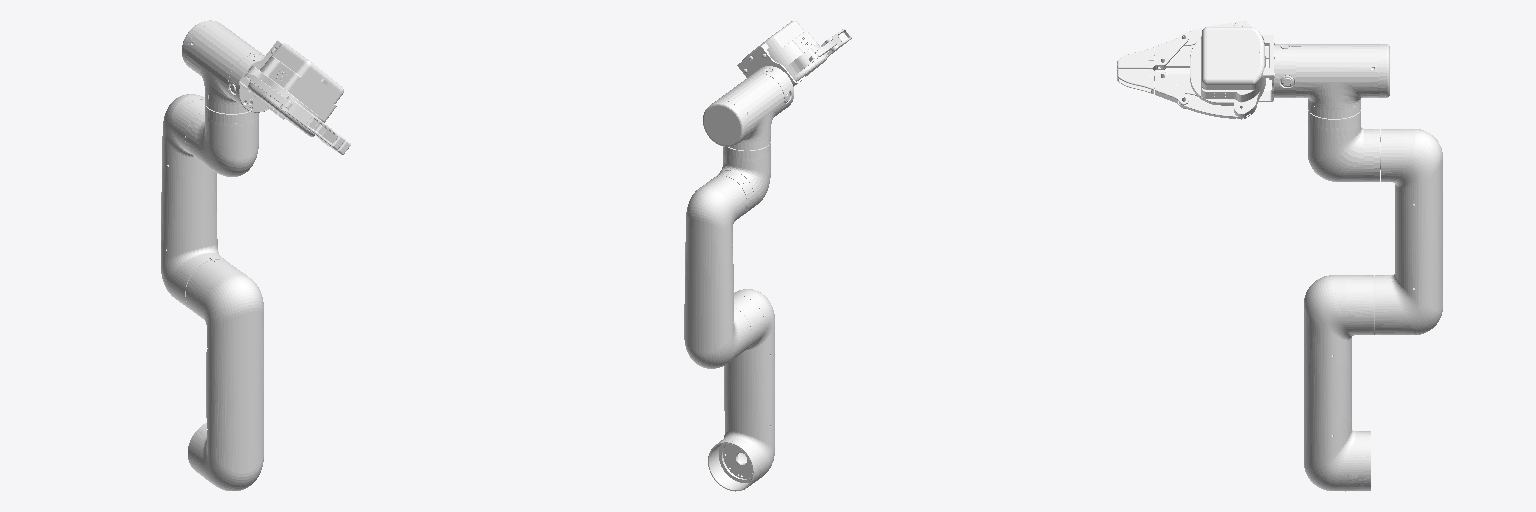
The robot description file, URDF, robot "Pro450 V2.0 Force Gripper":
<?xml version="1.0" encoding="utf-8"?>
<!-- This URDF was automatically created by SolidWorks to URDF Exporter! Originally created by Stephen Brawner (brawner@gmail.com) 
     Commit Version: 1.6.0-4-g7f85cfe  Build Version: 1.6.7995.38578
     For more information, please see http://wiki.ros.org/sw_urdf_exporter -->
<robot
  name="Pro450 V2.0 Force Gripper">
  <link
    name="base_link">
    <inertial>
      <origin
        xyz="-0.0121427980398158 -0.000139114941121948 0.0639906746725437"
        rpy="0 0 0" />
      <mass
        value="1.99849235094068" />
      <inertia
        ixx="0.00307588233725824"
        ixy="1.71384809402287E-06"
        ixz="0.000231023965259326"
        iyy="0.00282788073996958"
        iyz="-3.64610818465636E-07"
        izz="0.00322226268233202" />
    </inertial>
    <visual>
      <origin
        xyz="0 0 0"
        rpy="0 0 0" />
      <geometry>
        <mesh
          filename="package://mycobot_description/urdf/mycobot_pro_450/new_structure/meshes_gripper/base_link.STL" />
      </geometry>
      <material
        name="">
        <color
          rgba="1 1 1 1" />
      </material>
    </visual>
    <collision>
      <origin
        xyz="0 0 0"
        rpy="0 0 0" />
      <geometry>
        <mesh
          filename="package://mycobot_description/urdf/mycobot_pro_450/new_structure/meshes_gripper/base_link.STL" />
      </geometry>
    </collision>
  </link>
  <link
    name="link1">
    <inertial>
      <origin
        xyz="0.00041549358711547 -0.0218911357582349 -0.00347990976722076"
        rpy="0 0 0" />
      <mass
        value="0.53390251462261" />
      <inertia
        ixx="0.000329515563562123"
        ixy="-2.22975000584298E-07"
        ixz="7.49234969297025E-07"
        iyy="0.000342890656657347"
        iyz="1.474745752863E-05"
        izz="0.000318289898375189" />
    </inertial>
    <visual>
      <origin
        xyz="0 0 0"
        rpy="0 0 0" />
      <geometry>
        <mesh
          filename="package://mycobot_description/urdf/mycobot_pro_450/new_structure/meshes_gripper/link1.STL" />
      </geometry>
      <material
        name="">
        <color
          rgba="1 1 1 1" />
      </material>
    </visual>
    <collision>
      <origin
        xyz="0 0 0"
        rpy="0 0 0" />
      <geometry>
        <mesh
          filename="package://mycobot_description/urdf/mycobot_pro_450/new_structure/meshes_gripper/link1.STL" />
      </geometry>
    </collision>
  </link>
  <joint
    name="joint1"
    type="revolute">
    <origin
      xyz="0 0 0.210000000061212"
      rpy="0 0 0" />
    <parent
      link="base_link" />
    <child
      link="link1" />
    <axis
      xyz="0 0 1" />
    <limit
      lower="-2.8274"
      upper="2.8274"
      effort="10"
      velocity="3.7909" />
  </joint>
  <link
    name="Link2">
    <inertial>
      <origin
        xyz="-0.119196937867357 4.53708108136275E-05 0.077398171674505"
        rpy="0 0 0" />
      <mass
        value="0.599817831409922" />
      <inertia
        ixx="0.000292361093939765"
        ixy="-6.01962554926766E-07"
        ixz="-6.36308387887681E-05"
        iyy="0.00212671894321412"
        iyz="-2.73387760027324E-08"
        izz="0.00220058501248914" />
    </inertial>
    <visual>
      <origin
        xyz="0 0 0"
        rpy="0 0 0" />
      <geometry>
        <mesh
          filename="package://mycobot_description/urdf/mycobot_pro_450/new_structure/meshes_gripper/Link2.STL" />
      </geometry>
      <material
        name="">
        <color
          rgba="1 1 1 1" />
      </material>
    </visual>
    <collision>
      <origin
        xyz="0 0 0"
        rpy="0 0 0" />
      <geometry>
        <mesh
          filename="package://mycobot_description/urdf/mycobot_pro_450/new_structure/meshes_gripper/Link2.STL" />
      </geometry>
    </collision>
  </link>
  <joint
    name="joint2"
    type="revolute">
    <origin
      xyz="0 0 0"
      rpy="1.57079632679529 1.5707963267949 0" />
    <parent
      link="link1" />
    <child
      link="Link2" />
    <axis
      xyz="0 0 1" />
    <limit
      lower="-2.1817"
      upper="2.1817"
      effort="10"
      velocity="3.7909" />
  </joint>
  <link
    name="Link3">
    <inertial>
      <origin
        xyz="-0.126394054140004 -8.78085892881963E-05 0.0149922427268116"
        rpy="0 0 0" />
      <mass
        value="0.677760403744797" />
      <inertia
        ixx="0.000253551769521492"
        ixy="-1.6207463142078E-07"
        ixz="-2.73853967252523E-05"
        iyy="0.00171112893139742"
        iyz="-1.48031061511053E-07"
        izz="0.00175559532168159" />
    </inertial>
    <visual>
      <origin
        xyz="0 0 0"
        rpy="0 0 0" />
      <geometry>
        <mesh
          filename="package://mycobot_description/urdf/mycobot_pro_450/new_structure/meshes_gripper/Link3.STL" />
      </geometry>
      <material
        name="">
        <color
          rgba="1 1 1 1" />
      </material>
    </visual>
    <collision>
      <origin
        xyz="0 0 0"
        rpy="0 0 0" />
      <geometry>
        <mesh
          filename="package://mycobot_description/urdf/mycobot_pro_450/new_structure/meshes_gripper/Link3.STL" />
      </geometry>
    </collision>
  </link>
  <joint
    name="joint3"
    type="revolute">
    <origin
      xyz="-0.18 0 0"
      rpy="0 0 0" />
    <parent
      link="Link2" />
    <child
      link="Link3" />
    <axis
      xyz="0 0 1" />
    <limit
      lower="-2.6878"
      upper="2.6878"
      effort="8"
      velocity="3.11" />
  </joint>
  <link
    name="Link4">
    <inertial>
      <origin
        xyz="-0.0243356327246771 1.85891157540585E-06 -0.00501248583263512"
        rpy="0 0 0" />
      <mass
        value="0.554330588713247" />
      <inertia
        ixx="0.000190999544349174"
        ixy="-3.48704859231241E-07"
        ixz="1.58846886540113E-05"
        iyy="0.00024787463445041"
        iyz="5.86517184457514E-07"
        izz="0.00024422730305577" />
    </inertial>
    <visual>
      <origin
        xyz="0 0 0"
        rpy="0 0 0" />
      <geometry>
        <mesh
          filename="package://mycobot_description/urdf/mycobot_pro_450/new_structure/meshes_gripper/Link4.STL" />
      </geometry>
      <material
        name="">
        <color
          rgba="1 1 1 1" />
      </material>
    </visual>
    <collision>
      <origin
        xyz="0 0 0"
        rpy="0 0 0" />
      <geometry>
        <mesh
          filename="package://mycobot_description/urdf/mycobot_pro_450/new_structure/meshes_gripper/Link4.STL" />
      </geometry>
    </collision>
  </link>
  <joint
    name="joint4"
    type="revolute">
    <origin
      xyz="-0.173 0 0.085491"
      rpy="0 0 0" />
    <parent
      link="Link3" />
    <child
      link="Link4" />
    <axis
      xyz="0 0 1" />
    <limit
      lower="-2.8274"
      upper="2.8274"
      effort="2"
      velocity="3.11" />
  </joint>
  <link
    name="Link5">
    <inertial>
      <origin
        xyz="5.95525924024787E-05 -0.00755726858537741 -0.00355598775670984"
        rpy="0 0 0" />
      <mass
        value="0.549892772726069" />
      <inertia
        ixx="0.000227255118306309"
        ixy="2.78668412227377E-07"
        ixz="-1.6485530675208E-07"
        iyy="0.000191630652243264"
        iyz="2.40596542594008E-06"
        izz="0.000230343122724731" />
    </inertial>
    <visual>
      <origin
        xyz="0 0 0"
        rpy="0 0 0" />
      <geometry>
        <mesh
          filename="package://mycobot_description/urdf/mycobot_pro_450/new_structure/meshes_gripper/Link5.STL" />
      </geometry>
      <material
        name="">
        <color
          rgba="1 1 1 1" />
      </material>
    </visual>
    <collision>
      <origin
        xyz="0 0 0"
        rpy="0 0 0" />
      <geometry>
        <mesh
          filename="package://mycobot_description/urdf/mycobot_pro_450/new_structure/meshes_gripper/Link5.STL" />
      </geometry>
    </collision>
  </link>
  <joint
    name="joint5"
    type="revolute">
    <origin
      xyz="-0.097501 0 0"
      rpy="1.5708 0 -1.5708" />
    <parent
      link="Link4" />
    <child
      link="Link5" />
    <axis
      xyz="0 0 1" />
    <limit
      lower="-2.8274"
      upper="2.8274"
      effort="2"
      velocity="03.11" />
  </joint>
  <link
    name="Link6">
    <inertial>
      <origin
        xyz="0.000253028286251067 -1.94224821007533E-05 0.0129748624872951"
        rpy="0 0 0" />
      <mass
        value="0.109050457753012" />
      <inertia
        ixx="2.78189999416068E-05"
        ixy="3.40675028714369E-09"
        ixz="-1.05637116609514E-07"
        iyy="2.71885879202607E-05"
        iyz="4.96584746478856E-09"
        izz="4.45746192465352E-05" />
    </inertial>
    <visual>
      <origin
        xyz="0 0 0"
        rpy="0 0 0" />
      <geometry>
        <mesh
          filename="package://mycobot_description/urdf/mycobot_pro_450/new_structure/meshes_gripper/Link6.STL" />
      </geometry>
      <material
        name="">
        <color
          rgba="1 1 1 1" />
      </material>
    </visual>
    <collision>
      <origin
        xyz="0 0 0"
        rpy="0 0 0" />
      <geometry>
        <mesh
          filename="package://mycobot_description/urdf/mycobot_pro_450/new_structure/meshes_gripper/Link6.STL" />
      </geometry>
    </collision>
  </link>
  <joint
    name="joint6"
    type="revolute">
    <origin
      xyz="0 0.063173 0.00020984"
      rpy="1.5708 -1.5708 0" />
    <parent
      link="Link5" />
    <child
      link="Link6" />
    <axis
      xyz="0 0 -1" />
    <limit
      lower="-2.8798"
      upper="2.8798"
      effort="2"
      velocity="3.11" />
  </joint>
  <link
    name="FJR1-Link">
    <inertial>
      <origin
        xyz="-0.0240531185394106 -0.000942432324710252 -0.00349999403540391"
        rpy="0 0 0" />
      <mass
        value="0.0106787330900042" />
      <inertia
        ixx="9.13150196850704E-07"
        ixy="1.22687976365028E-06"
        ixz="1.23986212324685E-11"
        iyy="4.33499572437368E-06"
        iyz="-9.70313848749736E-12"
        izz="5.16136839112507E-06" />
    </inertial>
    <visual>
      <origin
        xyz="0 0 0"
        rpy="0 0 0" />
      <geometry>
        <mesh
          filename="package://mycobot_description/urdf/mycobot_pro_450/new_structure/meshes_gripper/FJR1-Link.STL" />
      </geometry>
      <material
        name="">
        <color
          rgba="1 1 1 1" />
      </material>
    </visual>
    <collision>
      <origin
        xyz="0 0 0"
        rpy="0 0 0" />
      <geometry>
        <mesh
          filename="package://mycobot_description/urdf/mycobot_pro_450/new_structure/meshes_gripper/FJR1-Link.STL" />
      </geometry>
    </collision>
  </link>
  <joint
    name="gripper_controller"
    type="revolute">
    <origin
      xyz="0.010249 -0.015409 -0.056357"
      rpy="0.7854 -1.5708 0" />
    <parent
      link="Link6" />
    <child
      link="FJR1-Link" />
    <axis
      xyz="0 0 1" />
    <limit
      lower="0"
      upper="1"
      effort="0"
      velocity="0" />
  </joint>
  <link
    name="FJR2_Link">
    <inertial>
      <origin
        xyz="-0.00871756109585614 -0.0066856926188521 0.00570006307158955"
        rpy="0 0 0" />
      <mass
        value="0.0122762763230831" />
      <inertia
        ixx="1.3428802470466E-06"
        ixy="1.50287085718338E-06"
        ixz="8.5192120946577E-12"
        iyy="4.07059702904549E-06"
        iyz="-4.08680695685277E-12"
        izz="4.81614917771409E-06" />
    </inertial>
    <visual>
      <origin
        xyz="0 0 0"
        rpy="0 0 0" />
      <geometry>
        <mesh
          filename="package://mycobot_description/urdf/mycobot_pro_450/new_structure/meshes_gripper/FJR2_Link.STL" />
      </geometry>
      <material
        name="">
        <color
          rgba="1 1 1 1" />
      </material>
    </visual>
    <collision>
      <origin
        xyz="0 0 0"
        rpy="0 0 0" />
      <geometry>
        <mesh
          filename="package://mycobot_description/urdf/mycobot_pro_450/new_structure/meshes_gripper/FJR2_Link.STL" />
      </geometry>
    </collision>
  </link>
  <joint
    name="FJR2"
    type="revolute">
    <origin
      xyz="-0.060004 0.0097343 -0.0092"
      rpy="0 0 0" />
    <parent
      link="FJR1-Link" />
    <child
      link="FJR2_Link" />
    <axis
      xyz="0 0 1" />
    <limit
      lower="-1"
      upper="0"
      effort="0"
      velocity="0" />
    <mimic
      joint="gripper_controller"
      multiplier="-1"
      offset="0" />
  </joint>
  <link
    name="SLR_Link">
    <inertial>
      <origin
        xyz="-0.0328198150746893 0.00307467906476672 4.37962444088669E-10"
        rpy="0 0 0" />
      <mass
        value="0.0054171073183385" />
      <inertia
        ixx="2.11007152235007E-07"
        ixy="4.3810735657286E-07"
        ixz="5.32288250036152E-15"
        iyy="1.86596385701505E-06"
        iyz="1.17970023508524E-14"
        izz="2.03590454852006E-06" />
    </inertial>
    <visual>
      <origin
        xyz="0 0 0"
        rpy="0 0 0" />
      <geometry>
        <mesh
          filename="package://mycobot_description/urdf/mycobot_pro_450/new_structure/meshes_gripper/SLR_Link.STL" />
      </geometry>
      <material
        name="">
        <color
          rgba="1 1 1 1" />
      </material>
    </visual>
    <collision>
      <origin
        xyz="0 0 0"
        rpy="0 0 0" />
      <geometry>
        <mesh
          filename="package://mycobot_description/urdf/mycobot_pro_450/new_structure/meshes_gripper/SLR_Link.STL" />
      </geometry>
    </collision>
  </link>
  <joint
    name="SLR"
    type="revolute">
    <origin
      xyz="0.031154 -0.031364 -0.034033"
      rpy="0.7854 -1.5708 0" />
    <parent
      link="Link6" />
    <child
      link="SLR_Link" />
    <axis
      xyz="0 0 1" />
    <limit
      lower="0"
      upper="1"
      effort="0"
      velocity="0" />
    <mimic
      joint="gripper_controller"
      multiplier="1"
      offset="0" />
  </joint>
  <link
    name="FJL1_Link">
    <inertial>
      <origin
        xyz="-0.0240537635019519 0.000925024900851057 -0.0034999969796613"
        rpy="0 0 0" />
      <mass
        value="0.0106787407305297" />
      <inertia
        ixx="9.14926734859368E-07"
        ixy="-1.2293790714532E-06"
        ixz="1.28278465401321E-11"
        iyy="4.33326210483321E-06"
        iyz="9.08991632049598E-12"
        izz="5.16141118405851E-06" />
    </inertial>
    <visual>
      <origin
        xyz="0 0 0"
        rpy="0 0 0" />
      <geometry>
        <mesh
          filename="package://mycobot_description/urdf/mycobot_pro_450/new_structure/meshes_gripper/FJL1_Link.STL" />
      </geometry>
      <material
        name="">
        <color
          rgba="1 1 1 1" />
      </material>
    </visual>
    <collision>
      <origin
        xyz="0 0 0"
        rpy="0 0 0" />
      <geometry>
        <mesh
          filename="package://mycobot_description/urdf/mycobot_pro_450/new_structure/meshes_gripper/FJL1_Link.STL" />
      </geometry>
    </collision>
  </link>
  <joint
    name="FJL1"
    type="revolute">
    <origin
      xyz="-0.015645 0.010485 -0.056371"
      rpy="0.7854 -1.5708 0" />
    <parent
      link="Link6" />
    <child
      link="FJL1_Link" />
    <axis
      xyz="0 0 1" />
    <limit
      lower="-1"
      upper="0"
      effort="0"
      velocity="0" />
    <mimic
      joint="gripper_controller"
      multiplier="-1"
      offset="0" />
  </joint>
  <link
    name="FJL2_Link">
    <inertial>
      <origin
        xyz="-0.0087215879519324 0.00668066863025774 0.00570001823076938"
        rpy="0 0 0" />
      <mass
        value="0.0122763514946347" />
      <inertia
        ixx="1.34459995554522E-06"
        ixy="-1.50442221119031E-06"
        ixz="-1.6047868501392E-11"
        iyy="4.0689247791143E-06"
        iyz="6.8243782759987E-12"
        izz="4.81619149507379E-06" />
    </inertial>
    <visual>
      <origin
        xyz="0 0 0"
        rpy="0 0 0" />
      <geometry>
        <mesh
          filename="package://mycobot_description/urdf/mycobot_pro_450/new_structure/meshes_gripper/FJL2_Link.STL" />
      </geometry>
      <material
        name="">
        <color
          rgba="1 1 1 1" />
      </material>
    </visual>
    <collision>
      <origin
        xyz="0 0 0"
        rpy="0 0 0" />
      <geometry>
        <mesh
          filename="package://mycobot_description/urdf/mycobot_pro_450/new_structure/meshes_gripper/FJL2_Link.STL" />
      </geometry>
    </collision>
  </link>
  <joint
    name="FJL2"
    type="revolute">
    <origin
      xyz="-0.059996 -0.0097778 -0.0092"
      rpy="0 0 0" />
    <parent
      link="FJL1_Link" />
    <child
      link="FJL2_Link" />
    <axis
      xyz="0 0 1" />
    <limit
      lower="0"
      upper="1"
      effort="0"
      velocity="0" />
    <mimic
      joint="FJL1"
      multiplier="-1"
      offset="0" />
  </joint>
  <link
    name="SLL_Link">
    <inertial>
      <origin
        xyz="-0.0328163724747199 -0.00311120029464318 -3.70706465524506E-10"
        rpy="0 0 0" />
      <mass
        value="0.00541710784994201" />
      <inertia
        ixx="2.11984529083573E-07"
        ixy="-4.39947973461513E-07"
        ixz="9.02824006899214E-14"
        iyy="1.86498671731195E-06"
        iyz="3.40649119109125E-14"
        izz="2.03590478106184E-06" />
    </inertial>
    <visual>
      <origin
        xyz="0 0 0"
        rpy="0 0 0" />
      <geometry>
        <mesh
          filename="package://mycobot_description/urdf/mycobot_pro_450/new_structure/meshes_gripper/SLL_Link.STL" />
      </geometry>
      <material
        name="">
        <color
          rgba="1 1 1 1" />
      </material>
    </visual>
    <collision>
      <origin
        xyz="0 0 0"
        rpy="0 0 0" />
      <geometry>
        <mesh
          filename="package://mycobot_description/urdf/mycobot_pro_450/new_structure/meshes_gripper/SLL_Link.STL" />
      </geometry>
    </collision>
  </link>
  <joint
    name="SLL"
    type="revolute">
    <origin
      xyz="-0.031626 0.031416 -0.034065"
      rpy="0.7854 -1.5708 0" />
    <parent
      link="Link6" />
    <child
      link="SLL_Link" />
    <axis
      xyz="0 0 1" />
    <limit
      lower="-1"
      upper="0"
      effort="0"
      velocity="0" />
    <mimic
      joint="FJL1"
      multiplier="1"
      offset="0" />
  </joint>
  <link
    name="fix_Link">
    <inertial>
      <origin
        xyz="0.0111990164782874 0.0114529221847095 -0.0375744404873279"
        rpy="0 0 0" />
      <mass
        value="0.0647897638359681" />
      <inertia
        ixx="7.94056739004155E-05"
        ixy="7.76152895753093E-06"
        ixz="-2.70944708941378E-06"
        iyy="7.94399795604632E-05"
        iyz="-2.69636633952849E-06"
        izz="7.24573675443116E-05" />
    </inertial>
    <visual>
      <origin
        xyz="0 0 0"
        rpy="0 0 0" />
      <geometry>
        <mesh
          filename="package://mycobot_description/urdf/mycobot_pro_450/new_structure/meshes_gripper/fix_Link.STL" />
      </geometry>
      <material
        name="">
        <color
          rgba="1 1 1 1" />
      </material>
    </visual>
    <collision>
      <origin
        xyz="0 0 0"
        rpy="0 0 0" />
      <geometry>
        <mesh
          filename="package://mycobot_description/urdf/mycobot_pro_450/new_structure/meshes_gripper/fix_Link.STL" />
      </geometry>
    </collision>
  </link>
  <joint
    name="fix"
    type="fixed">
    <origin
      xyz="0 0 0"
      rpy="0 0 0" />
    <parent
      link="Link6" />
    <child
      link="fix_Link" />
    <axis
      xyz="0 0 0" />
  </joint>
</robot>

--- Facts derived from the render (not from the file) ---
The picture shows the robot from 3 angles, left to right: view 1: azimuth 30°, elevation 25°; view 2: azimuth 150°, elevation 25°; view 3: azimuth 270°, elevation 25°; orthographic projection.
Robot: Pro450 V2.0 Force Gripper — 14 links, 13 joints (12 revolute, 1 fixed); root link base_link; default pose: all joints at 0.
Links seen in each view (by area): view 1: Link2, Link3, fix_Link, Link4, Link5, Link6, FJR2_Link; view 2: Link3, Link2, Link5, fix_Link, Link4, Link6; view 3: Link2, Link3, fix_Link, Link5, Link4, FJL2_Link, FJR2_Link, Link6, SLL_Link.
Boxes of the visible links, <box> form: Link2: <box>186,260,263,490</box>; Link3: <box>161,94,228,309</box>; fix_Link: <box>239,40,343,136</box>; Link4: <box>185,105,258,176</box>; Link5: <box>182,20,264,113</box>; Link6: <box>228,54,268,112</box>; FJR2_Link: <box>280,96,344,149</box>; Link3: <box>684,176,751,368</box>; Link2: <box>708,289,774,491</box>; Link5: <box>703,73,784,150</box>; fix_Link: <box>737,21,827,86</box>; Link4: <box>711,142,770,215</box>; Link6: <box>752,66,793,112</box>; Link2: <box>1304,275,1374,491</box>; Link3: <box>1375,129,1442,334</box>; fix_Link: <box>1190,21,1274,119</box>; Link5: <box>1296,44,1389,118</box>; Link4: <box>1308,110,1379,181</box>; FJL2_Link: <box>1117,69,1188,108</box>; FJR2_Link: <box>1117,33,1188,70</box>; Link6: <box>1274,44,1295,97</box>; SLL_Link: <box>1179,94,1245,118</box>.
Size in the robot's own frame: 0.0961 by 0.341 by 0.5381 metres.
12 mesh visuals loaded from 14 distinct referenced files (12 binary STL); not drawn: 2 (reference not matched to a file when rendering).
